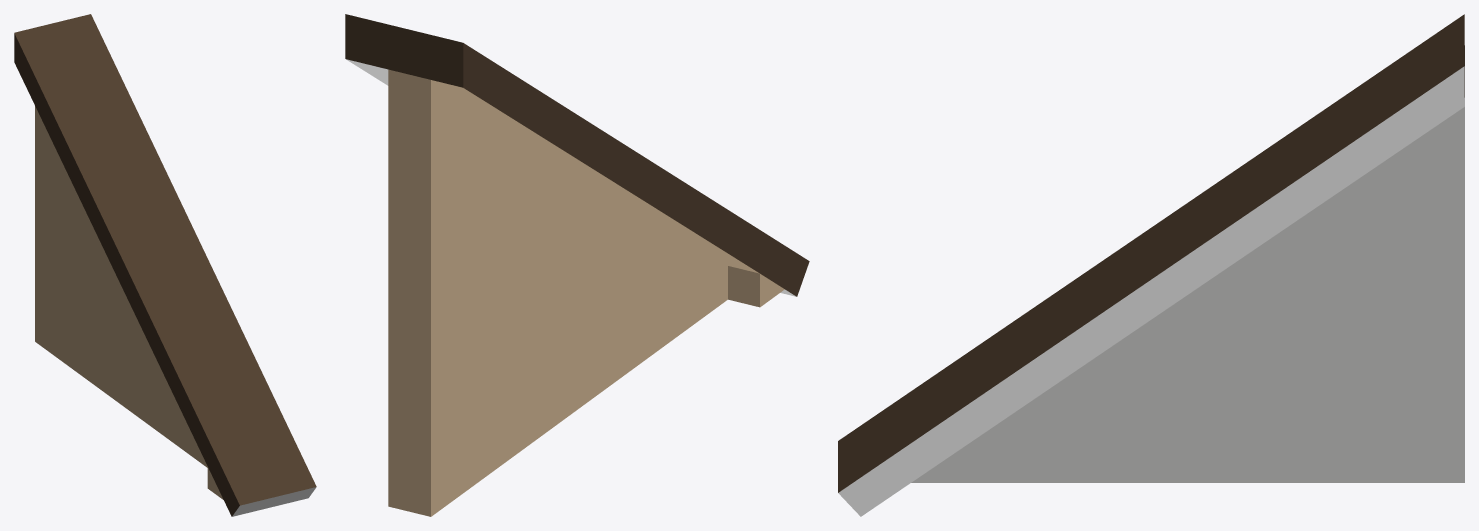
The model's file is buildings_house-roof-edge-1x3m.fbx.
3 views of the same model, side by side, from view 1: azimuth 30°, elevation 25°; view 2: azimuth 150°, elevation 25°; view 3: azimuth 270°, elevation 25° (orthographic). The views are drawn at different scales.
Visible parts, largest first — view 1: buildings_house_roof_edge_1x3m; view 2: buildings_house_roof_edge_1x3m; view 3: buildings_house_roof_edge_1x3m.
Boxes of the visible parts, x1,y1,x2,y2 form: buildings_house_roof_edge_1x3m: (14,14,316,516); buildings_house_roof_edge_1x3m: (345,14,809,516); buildings_house_roof_edge_1x3m: (838,14,1464,516).
Bounding box in the file's own units: 39.28 × 159 × 200.
